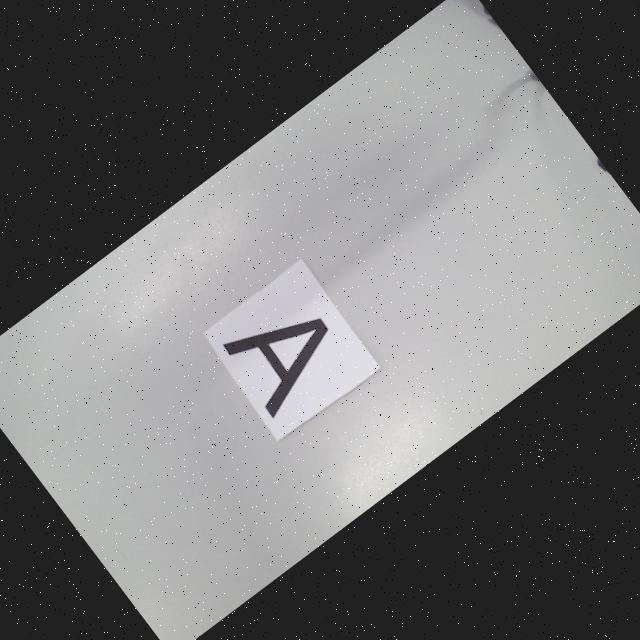FAKE: (219, 287, 352, 418)
